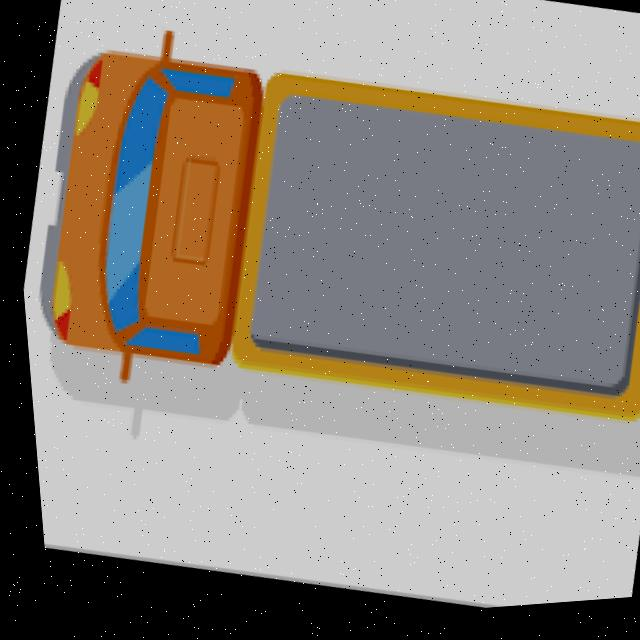truck: (5, 0, 640, 484)
